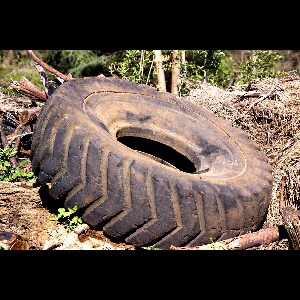tire: (30, 76, 272, 249)
